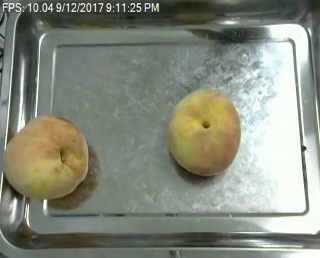Peach: (3, 113, 89, 201), (166, 88, 241, 176)
